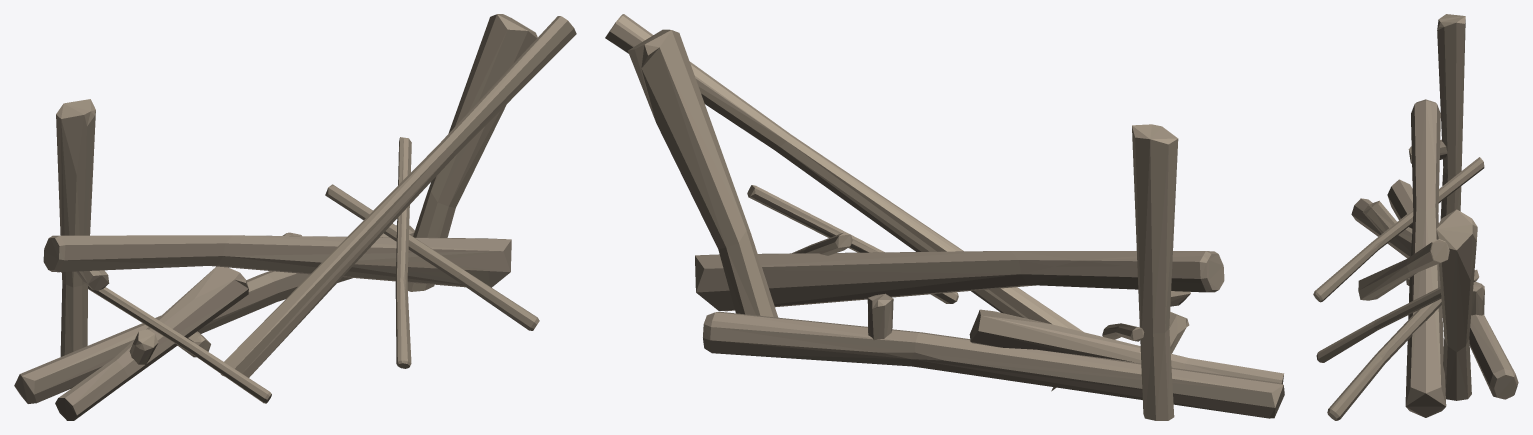
Rendered from fence_wood_04a.glb.
3 renders of one model, left to right at view 1: azimuth 30°, elevation 25°; view 2: azimuth 150°, elevation 25°; view 3: azimuth 270°, elevation 25°, orthographic. The views are drawn at different scales.
Visible parts, largest first — view 1: estructura.cerca.env_fence_wood_04a; view 2: estructura.cerca.env_fence_wood_04a; view 3: estructura.cerca.env_fence_wood_04a.
Boxes of the visible parts, x1=… form: estructura.cerca.env_fence_wood_04a: x1=14, y1=14, x2=576, y2=420; estructura.cerca.env_fence_wood_04a: x1=605, y1=14, x2=1284, y2=420; estructura.cerca.env_fence_wood_04a: x1=1313, y1=14, x2=1518, y2=420.
Size of the model in its own units: 2.65 by 1.2 by 0.9355.
